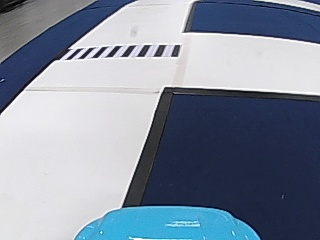CrossWalk: (68, 43, 184, 60)
